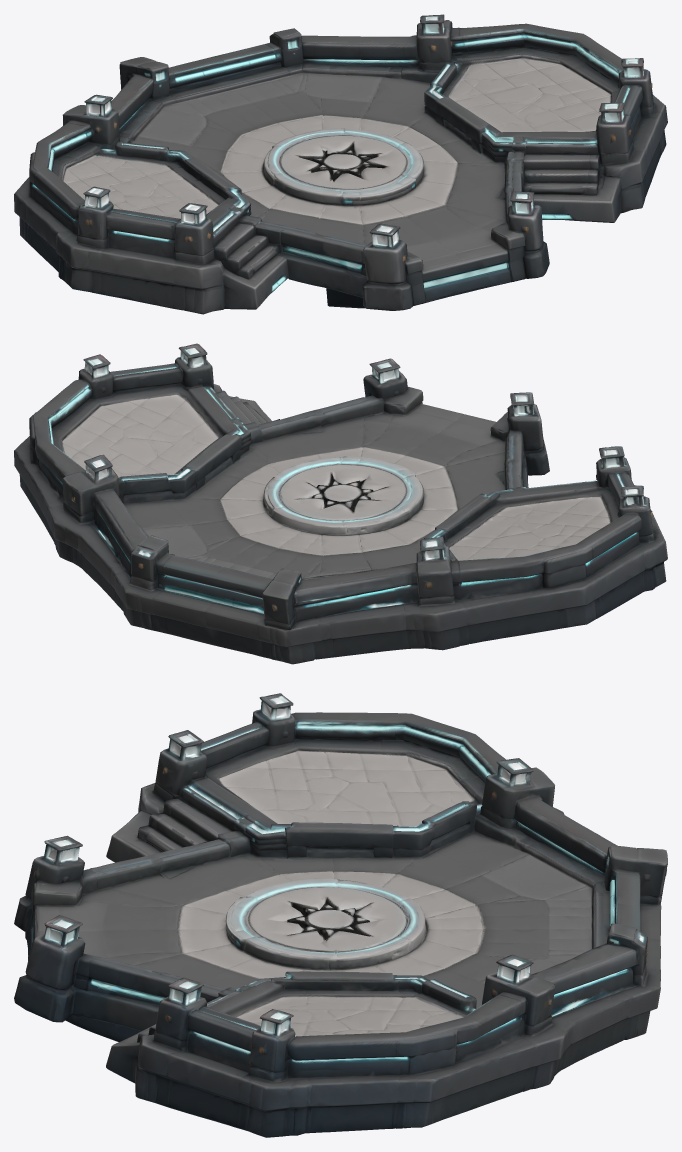
Rendered from HubDeckShell-Tripo-Level-v2.fbx.
3 renders of one model, top to bottom at view 1: azimuth 30°, elevation 25°; view 2: azimuth 150°, elevation 25°; view 3: azimuth 270°, elevation 25°, orthographic. The views are drawn at different scales.
Visible parts, largest first — view 1: tripo_node_392af453; view 2: tripo_node_392af453; view 3: tripo_node_392af453.
Part boxes in pixels (box(x1,y1,x2,y2)): tripo_node_392af453: box(14, 14, 667, 314); tripo_node_392af453: box(14, 343, 667, 664); tripo_node_392af453: box(14, 693, 667, 1137).
Size of the model in its own units: 0.9797 by 0.1905 by 0.7746.
1 material, 1 textured.
